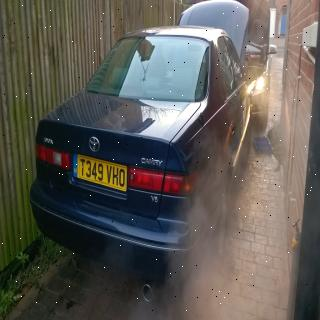license: (69, 150, 132, 198)
